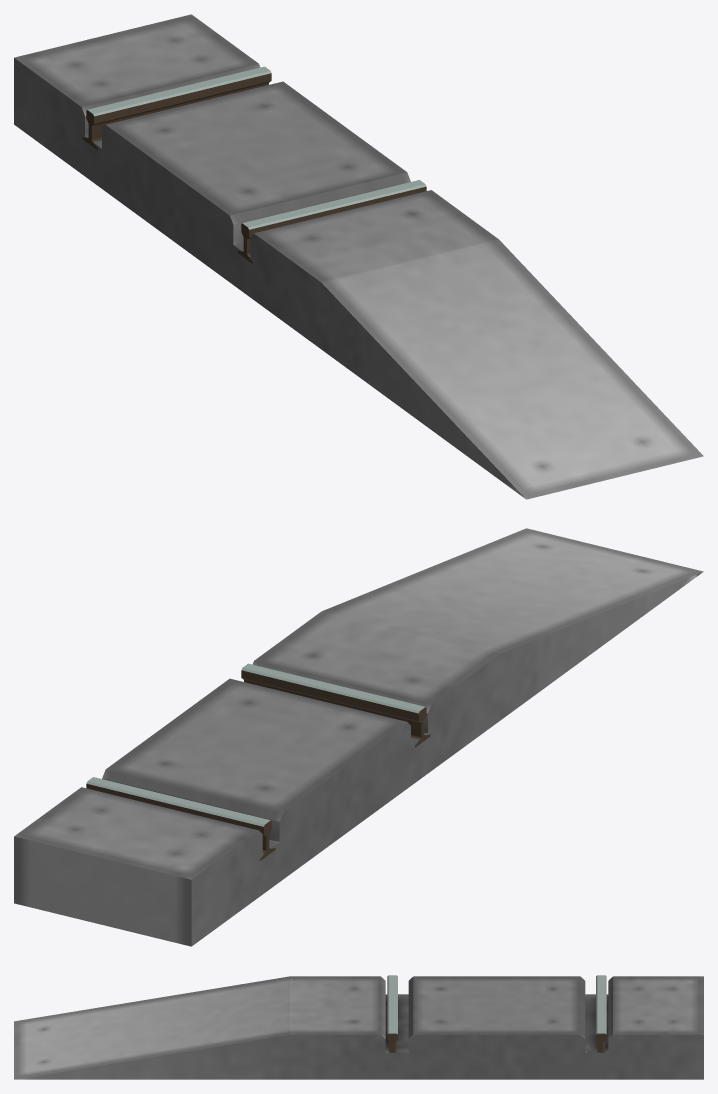
File: atsf_crossing_track_left.obj
3 renders of one model, top to bottom at view 1: azimuth 30°, elevation 25°; view 2: azimuth 150°, elevation 25°; view 3: azimuth 270°, elevation 25°, orthographic. The views are drawn at different scales.
Parts seen in each view (by area): view 1: RAIL_BASE.001_Cube.003, RAIL_RIGHT_Cube.010, RAIL_LEFT_Cube.001; view 2: RAIL_BASE.001_Cube.003, RAIL_LEFT_Cube.001, RAIL_RIGHT_Cube.010; view 3: RAIL_BASE.001_Cube.003, RAIL_RIGHT_Cube.010, RAIL_LEFT_Cube.001.
Part boxes in pixels (x1,y1,x2,y2): RAIL_BASE.001_Cube.003: [14, 14, 703, 499]; RAIL_RIGHT_Cube.010: [82, 66, 271, 150]; RAIL_LEFT_Cube.001: [237, 180, 426, 263]; RAIL_BASE.001_Cube.003: [14, 528, 703, 946]; RAIL_LEFT_Cube.001: [241, 663, 430, 747]; RAIL_RIGHT_Cube.010: [86, 777, 275, 860]; RAIL_BASE.001_Cube.003: [14, 976, 703, 1079]; RAIL_RIGHT_Cube.010: [596, 975, 606, 1052]; RAIL_LEFT_Cube.001: [387, 975, 397, 1052].
Bounding box in the file's own units: 1 × 0.3683 × 5.
1 material, 1 textured.
